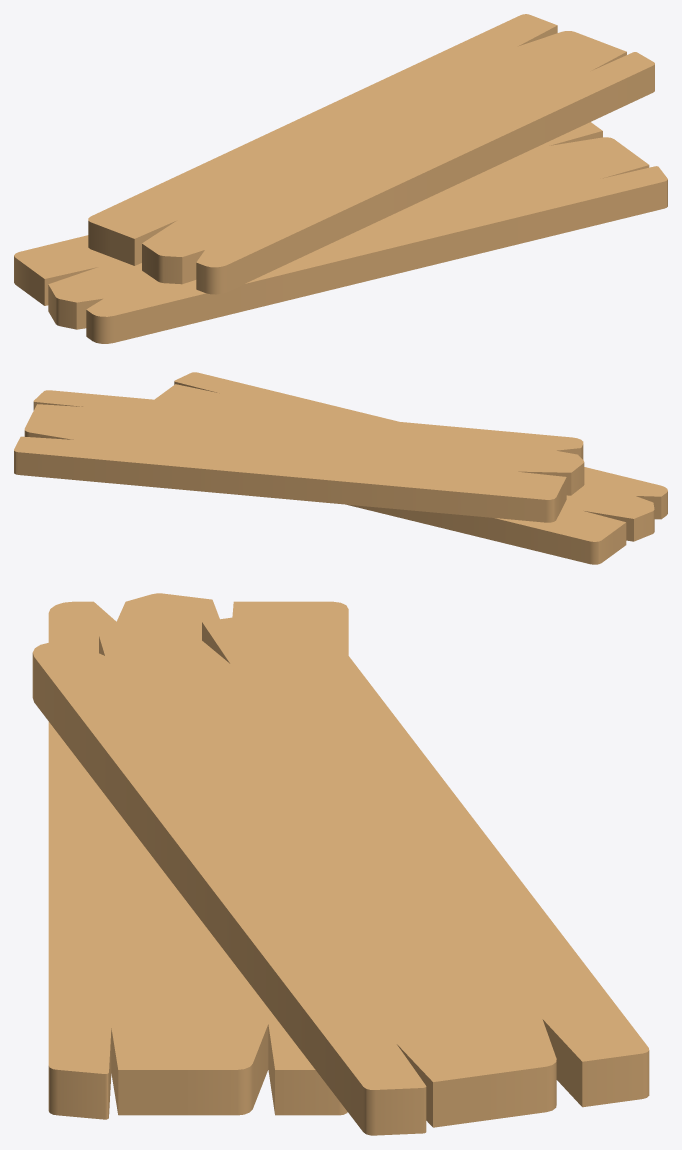
File: wooden plank.fbx
3 renders of one model, top to bottom at view 1: azimuth 30°, elevation 25°; view 2: azimuth 150°, elevation 25°; view 3: azimuth 270°, elevation 25°, orthographic. The views are drawn at different scales.
Visible parts, largest first — view 1: wooden plank.3; view 2: wooden plank.3; view 3: wooden plank.3.
Part boxes in pixels (bbox=[...]): wooden plank.3: bbox=[14, 14, 667, 343]; wooden plank.3: bbox=[14, 372, 667, 564]; wooden plank.3: bbox=[32, 593, 649, 1135].
Size of the model in its own units: 96.8 by 7.62 by 46.48.
